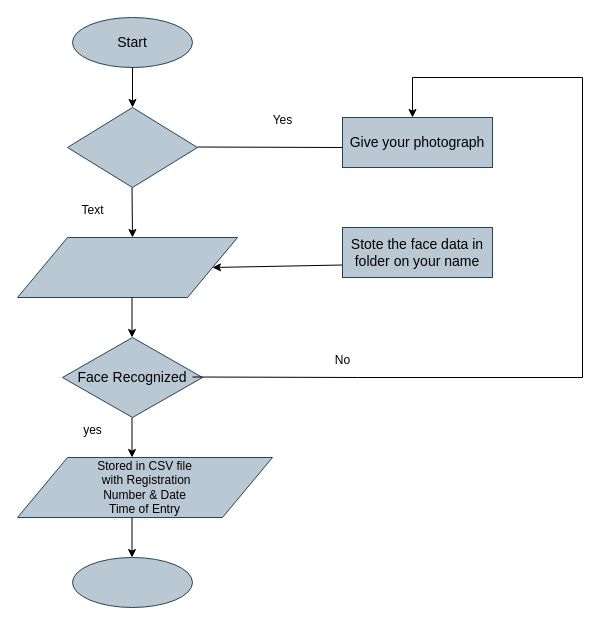
This 601x625 diagram has some shape labels left out. The centre of each missing label's shape, as x and y in pixels:
End: [132,582]
New User?: [132,147]
Recognize the face: [127,267]
